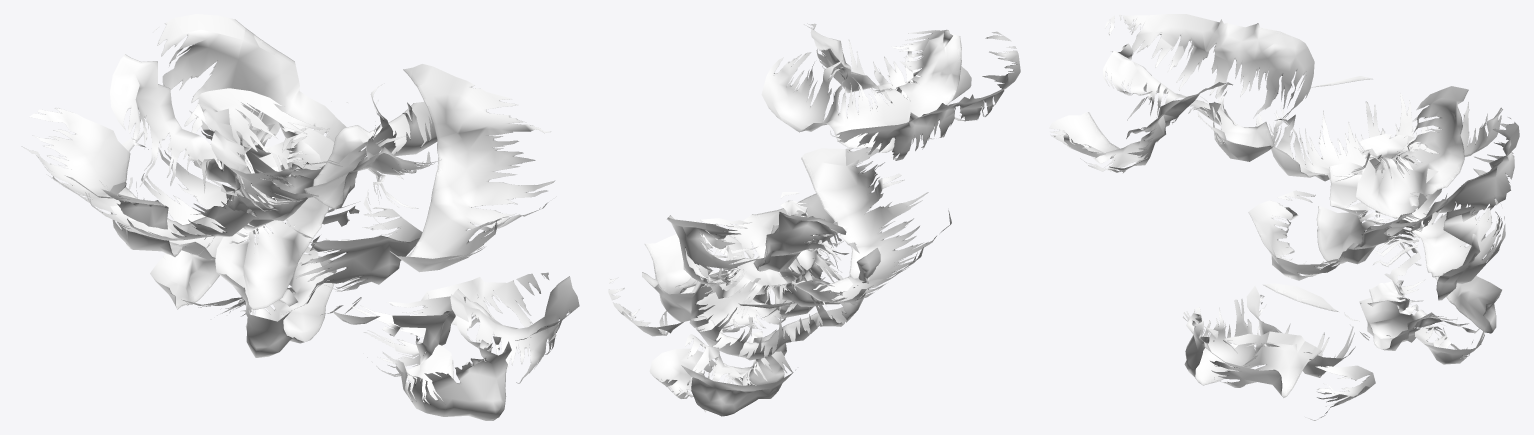
The model's file is SM_ENV_KNFRST_Leaf_GroupD.FBX.
The picture shows the model from 3 angles, left to right: view 1: azimuth 30°, elevation 25°; view 2: azimuth 150°, elevation 25°; view 3: azimuth 270°, elevation 25°; orthographic projection. The views are drawn at different scales.
Visible parts, largest first — view 1: SM_ENV_KNFRST_Leaf_GroupD; view 2: SM_ENV_KNFRST_Leaf_GroupD; view 3: SM_ENV_KNFRST_Leaf_GroupD.
Boxes of the visible parts, <box> form: SM_ENV_KNFRST_Leaf_GroupD: <box>21,14,579,420</box>; SM_ENV_KNFRST_Leaf_GroupD: <box>608,23,1020,416</box>; SM_ENV_KNFRST_Leaf_GroupD: <box>1049,14,1519,420</box>.
Size of the model in its own units: 6290 by 4825 by 7320.
